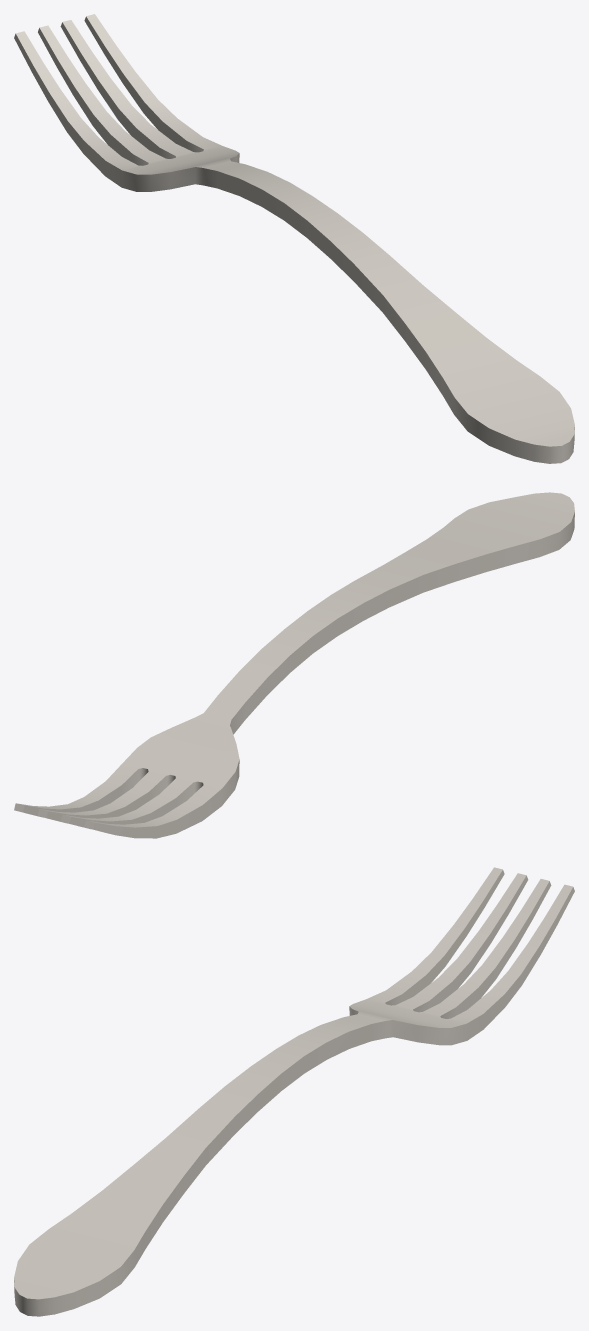
Rendered from M_Fork_01.FBX.
3 views of the same model, one above another, from view 1: azimuth 30°, elevation 25°; view 2: azimuth 150°, elevation 25°; view 3: azimuth 330°, elevation 25° (orthographic).
Parts seen in each view (by area): view 1: M_Fork_01; view 2: M_Fork_01; view 3: M_Fork_01.
Boxes of the visible parts, bbox=[...] form: M_Fork_01: bbox=[14, 14, 574, 463]; M_Fork_01: bbox=[14, 492, 574, 838]; M_Fork_01: bbox=[14, 867, 574, 1316].
Size of the model in its own units: 2.01 by 17.61 by 1.37.
